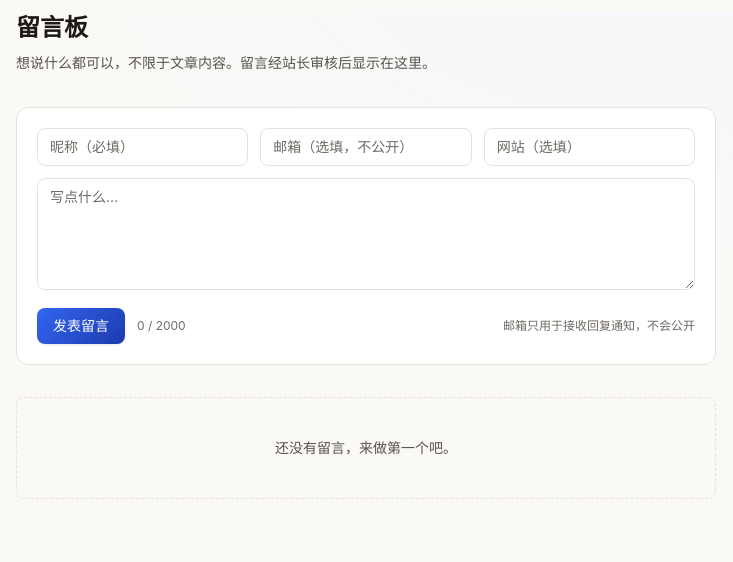
Test: GuestbookView · 发表留言 › 提交成功（待审核）：payload 里空串转 null，并明确提示还在等审核
Step 1. Type "  新访客  " into the field with placeholder "昵称（必填）" → (143, 147), box [37, 128, 248, 166]
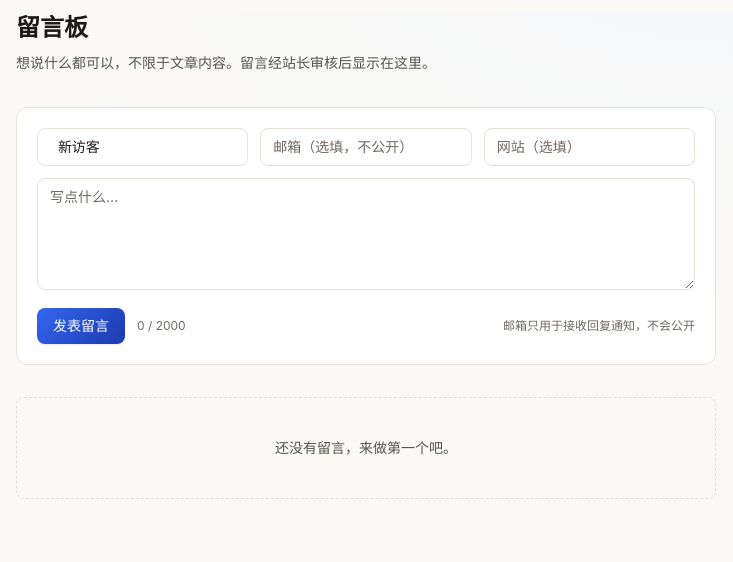
Step 2. Type "  第一次来，留个脚印。  " into the text box named "留言内容" → (366, 234), box [37, 178, 695, 290]
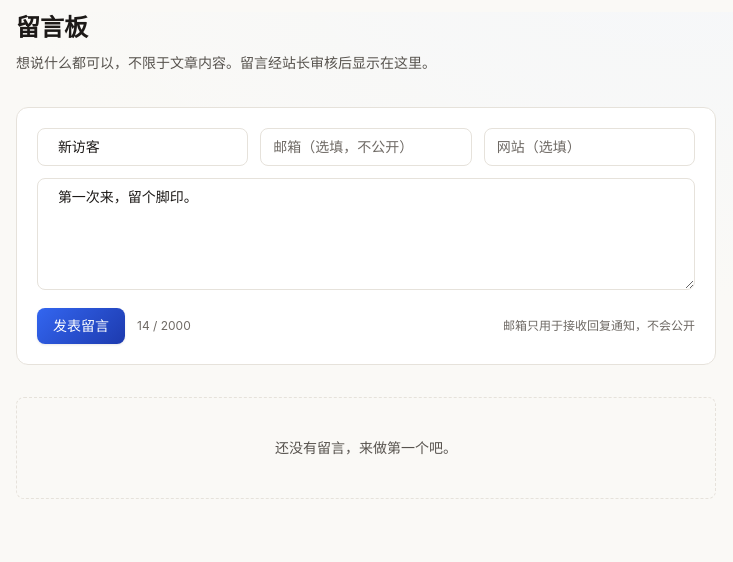
Step 3. Click the button "发表留言" → (81, 326), box [37, 308, 125, 344]
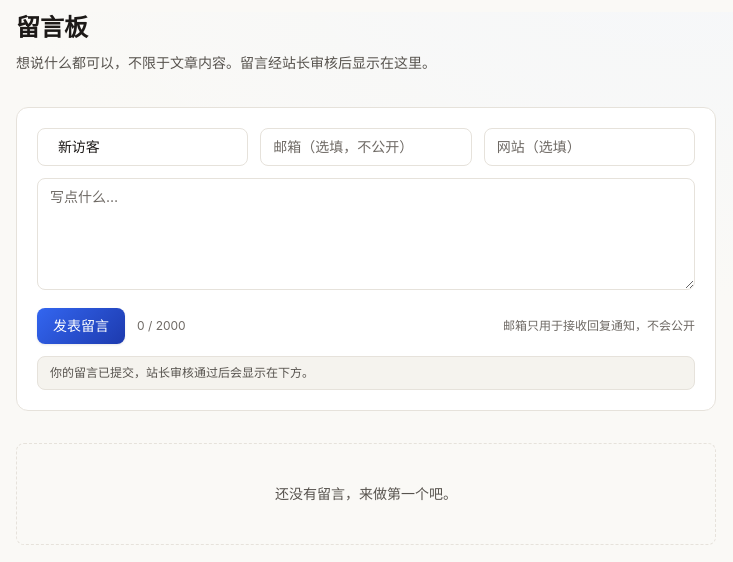
Expected: the text "站长审核通过后会显示在下方" is shown, [50, 365, 314, 380]
Expected: the text box named "留言内容" is empty, [37, 178, 695, 290]
